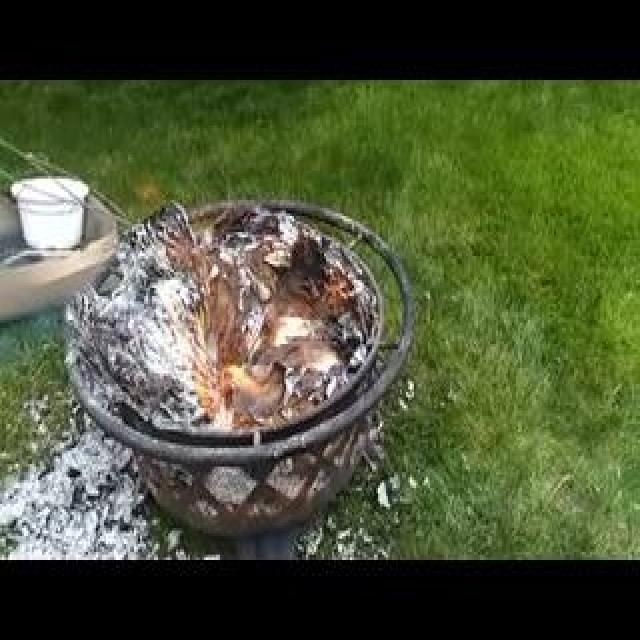Fire: (132, 152, 237, 368)
